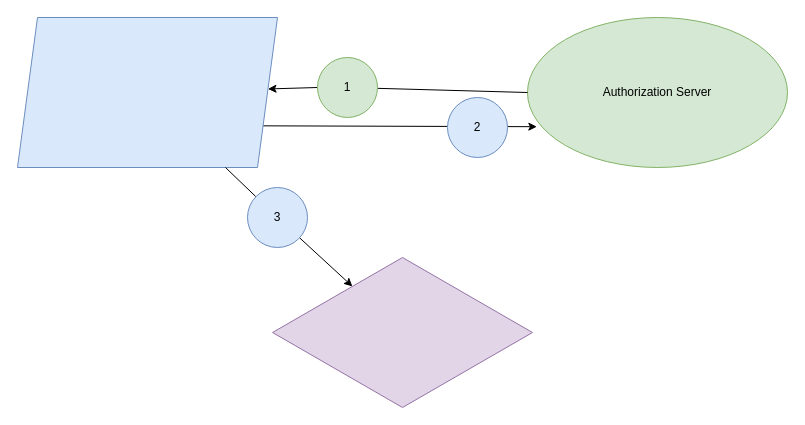
Some shapes in this 805 by 425 pixel diagram are drawn without their labels. The shapes that lost their labels are listed below. From the top down, each one's box as (x1, y1, x2, y2) in pixels, then its label:
(16, 16, 278, 168): Application (client)
(272, 256, 532, 408): API (Resource Server)
